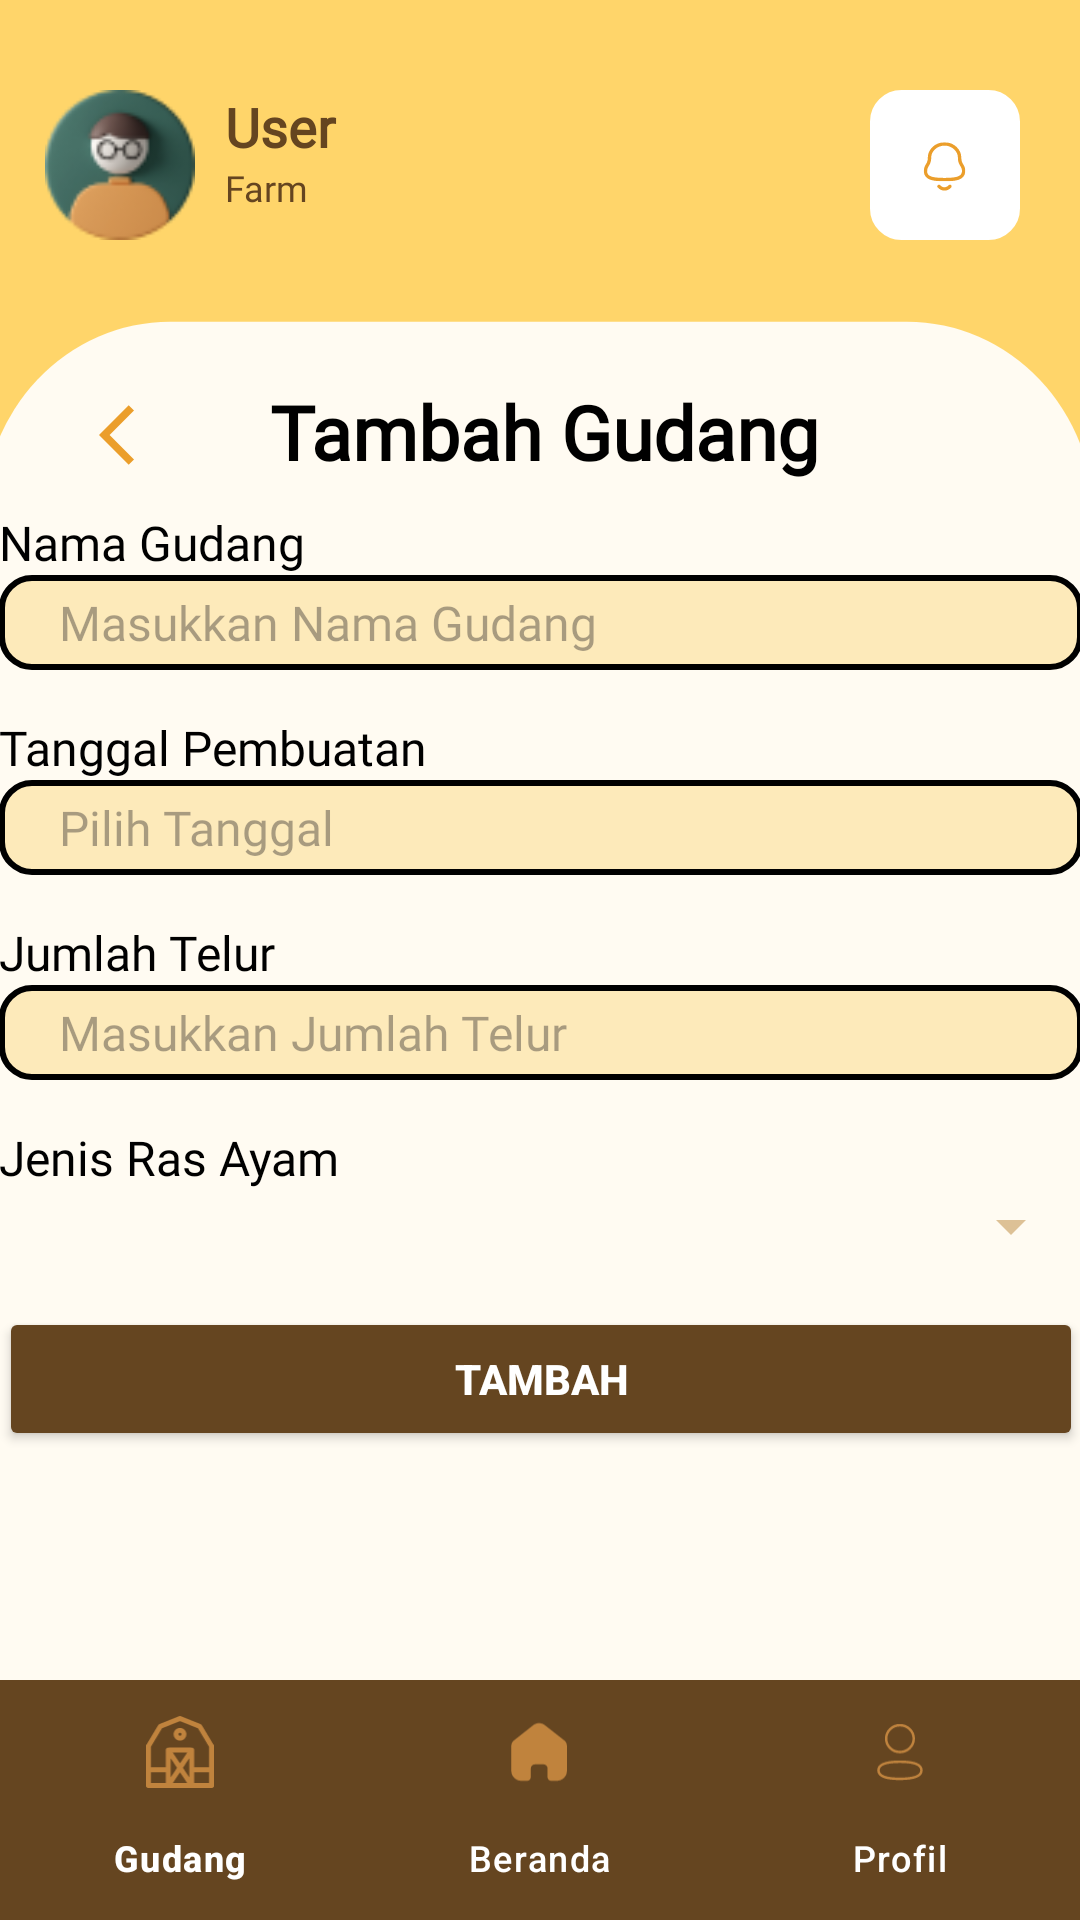

Where to tap for icons on this 1080×1920 app screen, as [x,y]:
bell: [945,165]
profile pic: [120,165]
